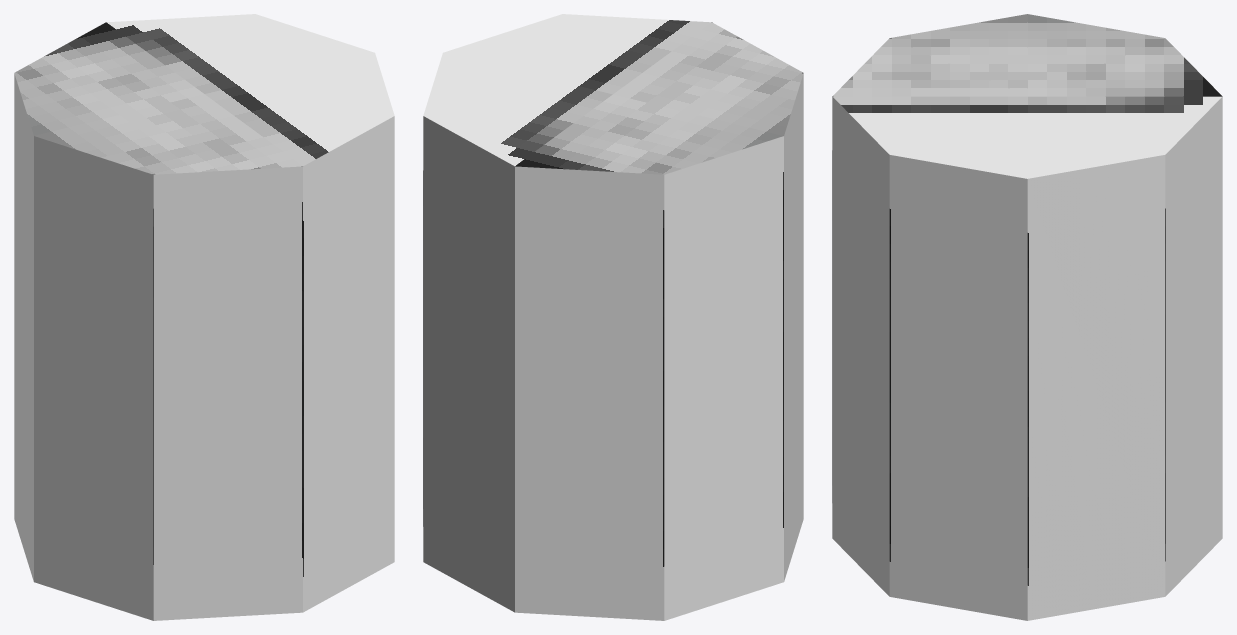
The model's file is windgen_pillar.obj.
The picture shows the model from 3 angles, left to right: view 1: azimuth 30°, elevation 25°; view 2: azimuth 150°, elevation 25°; view 3: azimuth 270°, elevation 25°; orthographic projection.
Parts seen in each view (by area): view 1: windgen_pillar; view 2: windgen_pillar; view 3: windgen_pillar.
Boxes of the visible parts, bbox=[...] form: windgen_pillar: bbox=[14, 14, 394, 620]; windgen_pillar: bbox=[423, 14, 803, 620]; windgen_pillar: bbox=[832, 14, 1222, 620].
Size of the model in its own units: 0.8 by 1 by 0.8.
